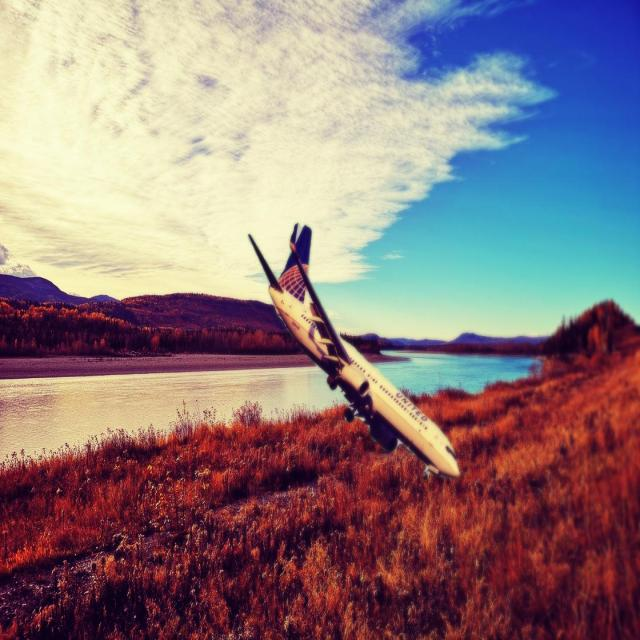airplane: (246, 221, 460, 482)
